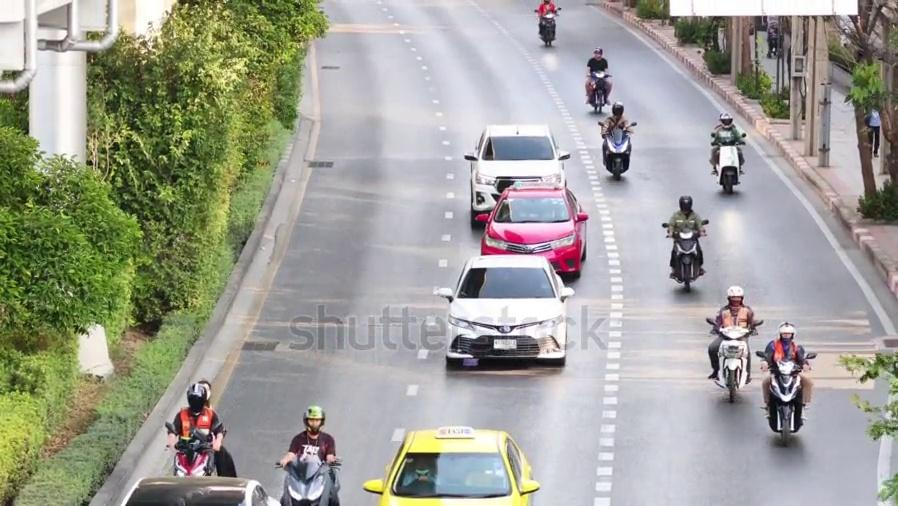person: (863, 107, 881, 157)
rider: (277, 404, 341, 505), (164, 379, 224, 476), (757, 321, 812, 422), (706, 285, 755, 384), (665, 195, 707, 277), (709, 111, 746, 175), (597, 101, 632, 162), (585, 47, 612, 105), (534, 0, 558, 35)
with_helmate: (297, 404, 326, 434), (776, 320, 799, 351), (721, 284, 746, 311), (186, 384, 207, 412), (675, 195, 696, 214), (718, 109, 735, 129), (610, 104, 629, 118), (589, 44, 605, 58)
